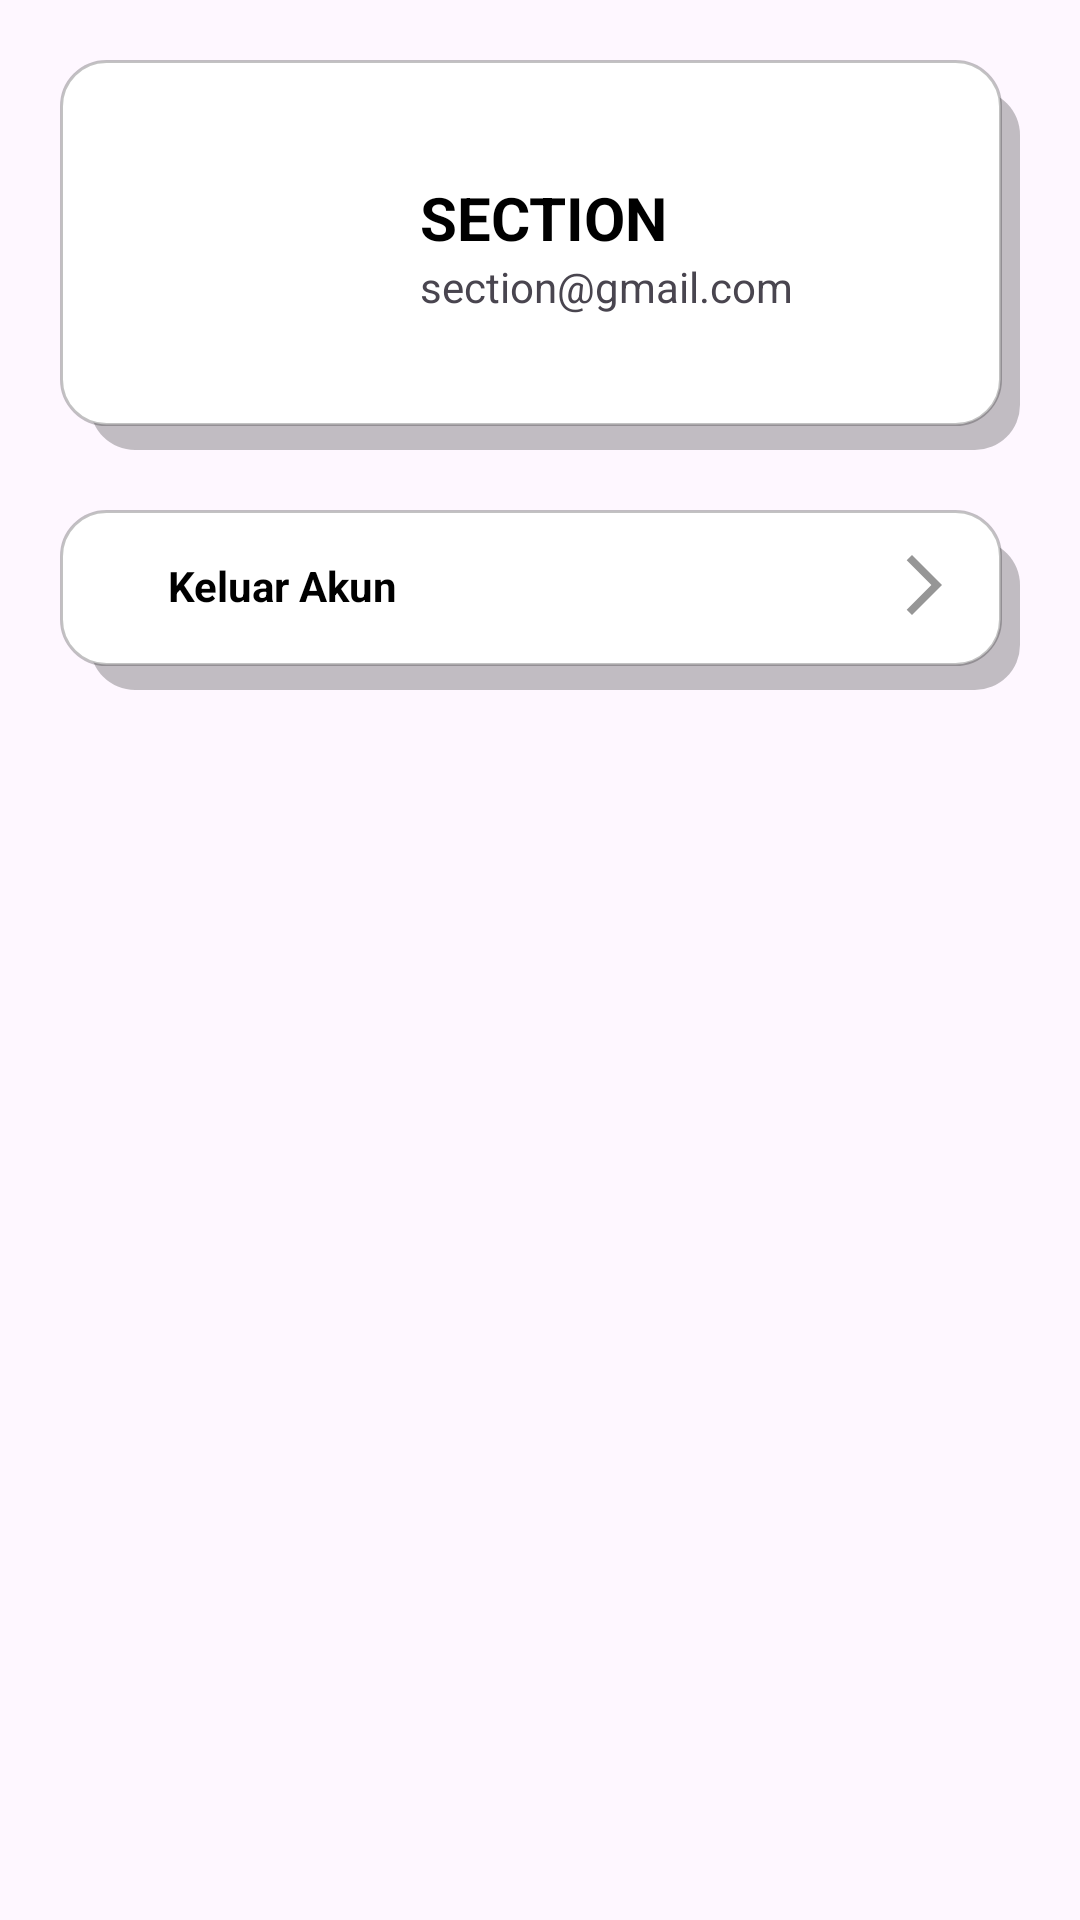

Icons on this 1080px×1920px Android screen, each with the point to tap as [x,y]:
arrow forward: [924,585]
